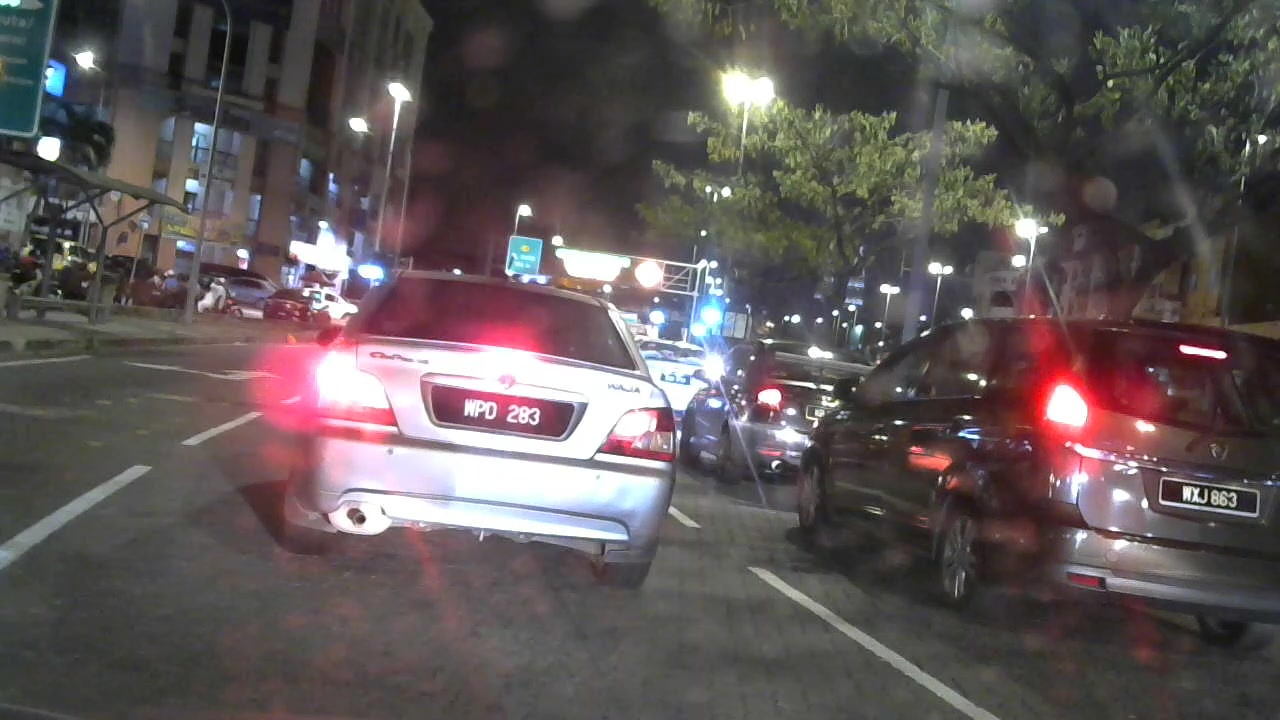Car: (805, 313, 1275, 663), (251, 259, 717, 584), (680, 327, 849, 483)
